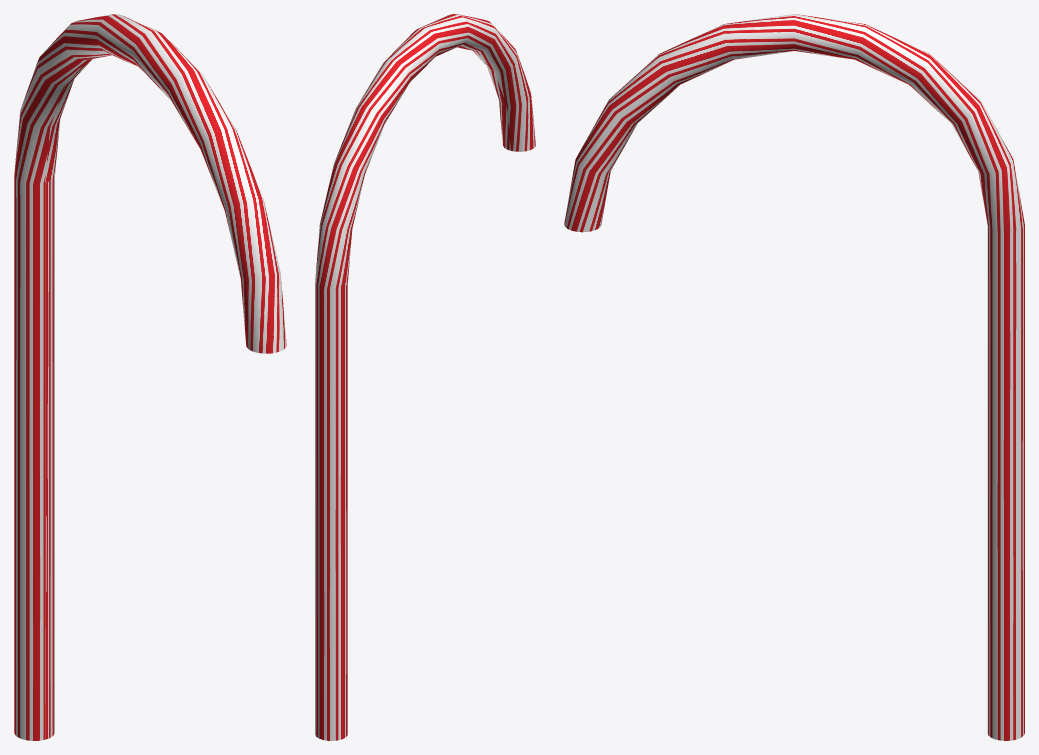
The model's file is FbxCandyCane.fbx.
The picture shows the model from 3 angles, left to right: view 1: azimuth 30°, elevation 25°; view 2: azimuth 150°, elevation 25°; view 3: azimuth 270°, elevation 25°; orthographic projection. The views are drawn at different scales.
Parts seen in each view (by area): view 1: CandyCane; view 2: CandyCane; view 3: CandyCane.
Boxes of the visible parts, bbox=[...] form: CandyCane: bbox=[14, 14, 286, 740]; CandyCane: bbox=[315, 14, 535, 740]; CandyCane: bbox=[564, 14, 1024, 740].
Size of the model in its own units: 0.0218 by 0.461 by 0.2683.
